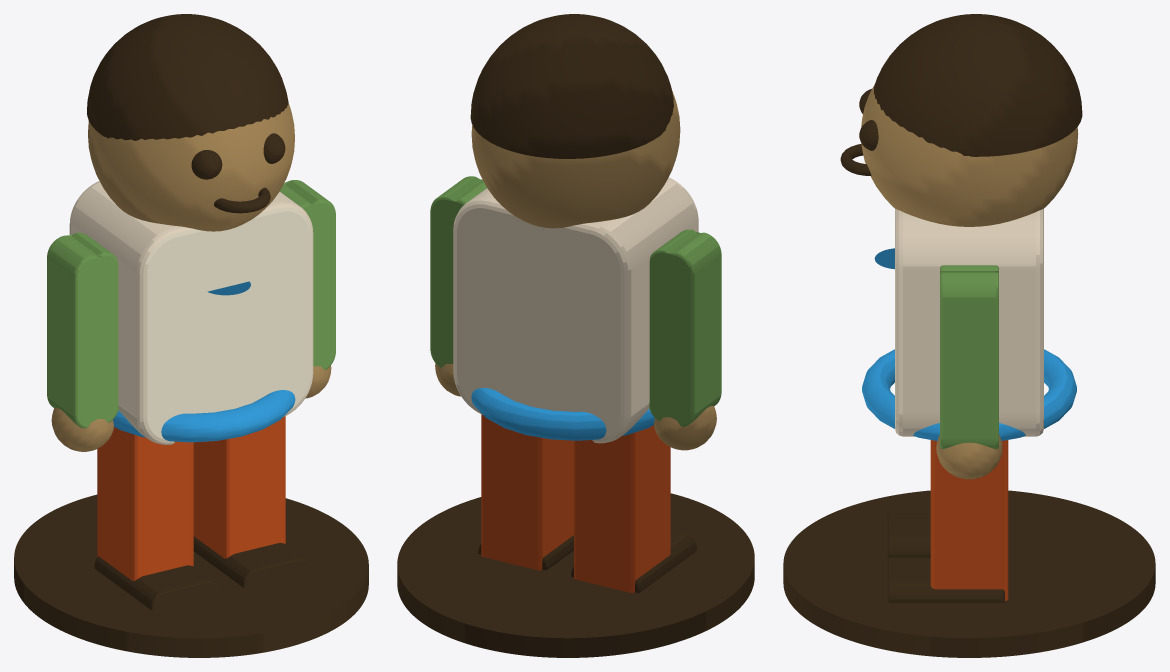
Rendered from 0704_《史记》_孙膑兵法.glb.
The picture shows the model from 3 angles, left to right: view 1: azimuth 30°, elevation 25°; view 2: azimuth 150°, elevation 25°; view 3: azimuth 270°, elevation 25°; orthographic projection.
Visible parts, largest first — view 1: card_0704; view 2: card_0704; view 3: card_0704.
Part boxes in pixels (x1=…): card_0704: x1=14, y1=14, x2=368, y2=657; card_0704: x1=397, y1=14, x2=754, y2=657; card_0704: x1=783, y1=14, x2=1155, y2=657.
Bounding box in the file's own units: 0.5568 × 1 × 0.5864.
